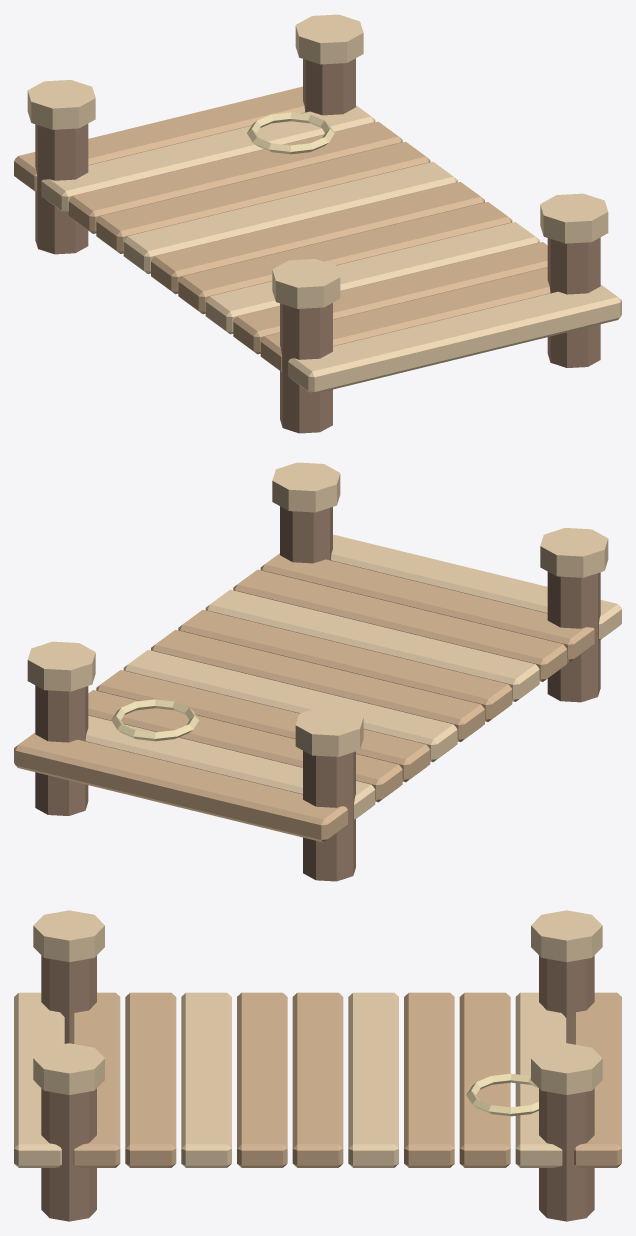
The model's file is dock.fbx.
3 renders of one model, top to bottom at view 1: azimuth 30°, elevation 25°; view 2: azimuth 150°, elevation 25°; view 3: azimuth 270°, elevation 25°, orthographic.
Parts seen in each view (by area): view 1: dock_mesh; view 2: dock_mesh; view 3: dock_mesh.
Boxes of the visible parts, bbox=[...] form: dock_mesh: bbox=[14, 14, 621, 433]; dock_mesh: bbox=[14, 462, 621, 881]; dock_mesh: bbox=[14, 910, 621, 1221].
Bounding box in the file's own units: 1.94 × 0.84 × 3.05.
